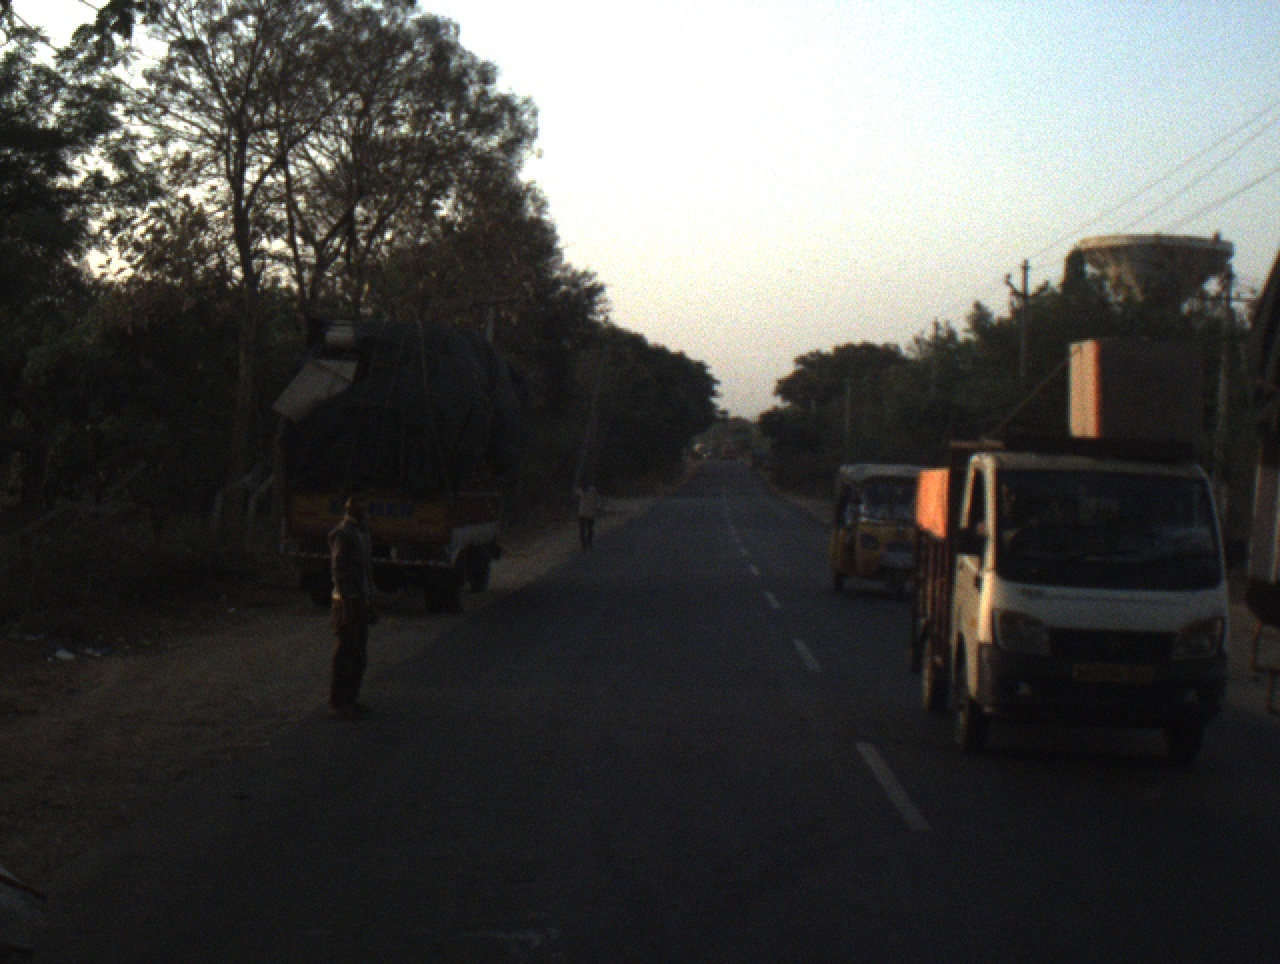autorickshaw: (823, 458, 928, 609)
person: (320, 487, 389, 724), (567, 468, 600, 554)
truck: (909, 434, 1238, 776), (279, 304, 512, 619), (721, 435, 740, 461)
vehicle fallback: (694, 438, 715, 461)
